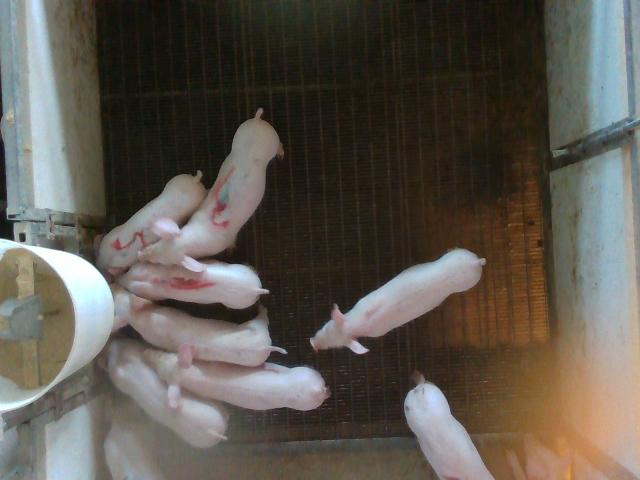pig-1: (118, 260, 269, 309)
pig-3: (139, 109, 284, 271)
pig-5: (100, 171, 208, 279)
